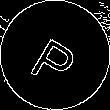P_NE: (26, 24, 84, 86)
